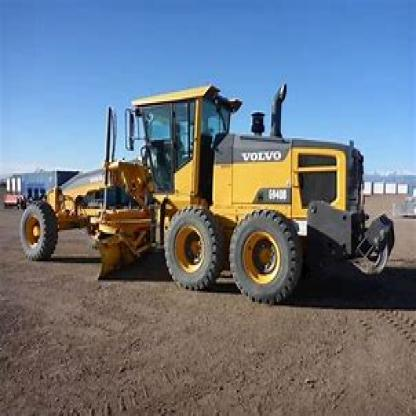bull_dozer/loader/grader: (12, 75, 397, 318)
